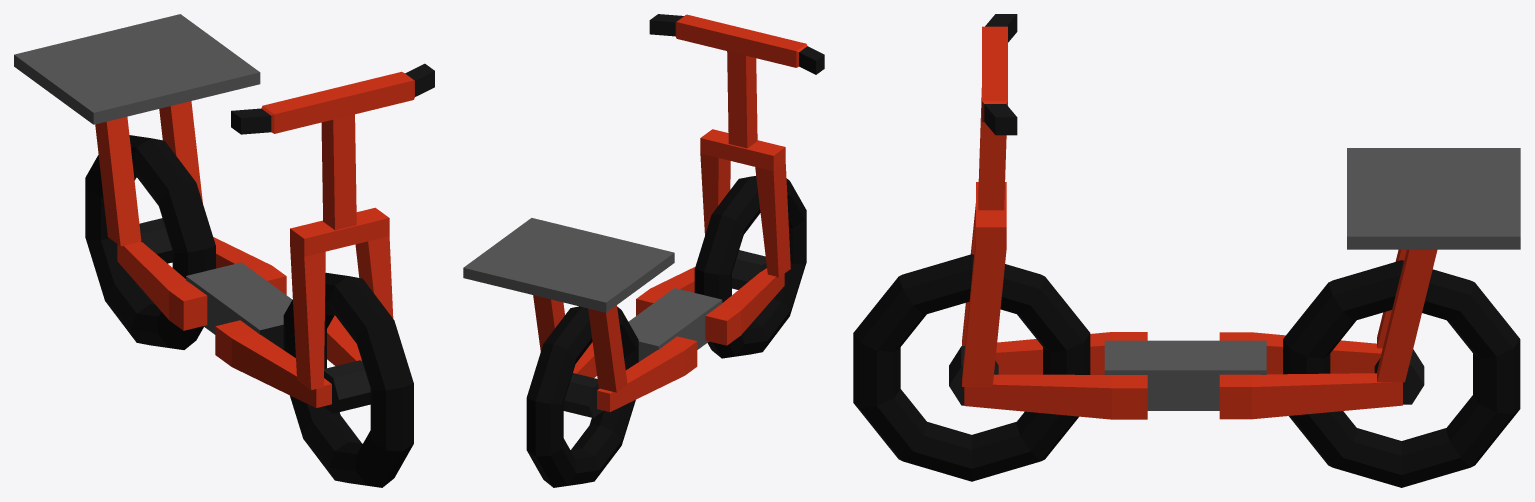
The model's file is biker.fbx.
3 renders of one model, left to right at view 1: azimuth 30°, elevation 25°; view 2: azimuth 150°, elevation 25°; view 3: azimuth 270°, elevation 25°, orthographic. The views are drawn at different scales.
Parts seen in each view (by area): view 1: Cube.001; view 2: Cube.001; view 3: Cube.001.
Part boxes in pixels (x1,y1,x2,y2): Cube.001: [14, 14, 434, 487]; Cube.001: [463, 14, 824, 487]; Cube.001: [853, 14, 1520, 487].
Size of the model in its own units: 78.62 by 151 by 215.
Materials: 1 (1 with a texture image).
